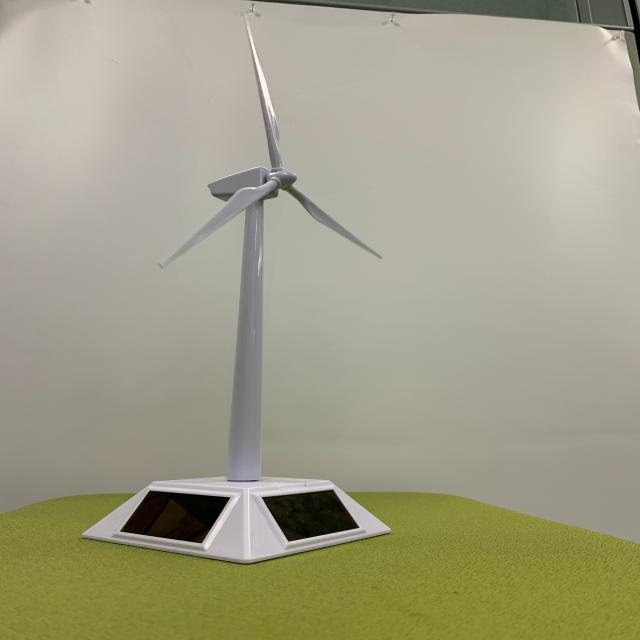solid-blade: (159, 180, 279, 267), (285, 185, 381, 258), (244, 14, 282, 171)
